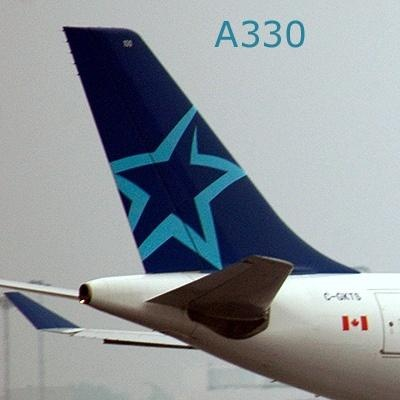aeroplane: (4, 16, 400, 400)
